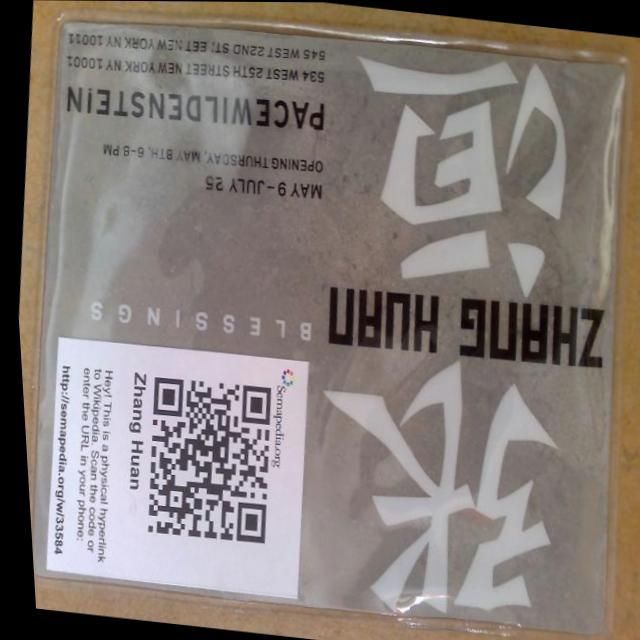qrcode: (133, 375, 274, 544)
